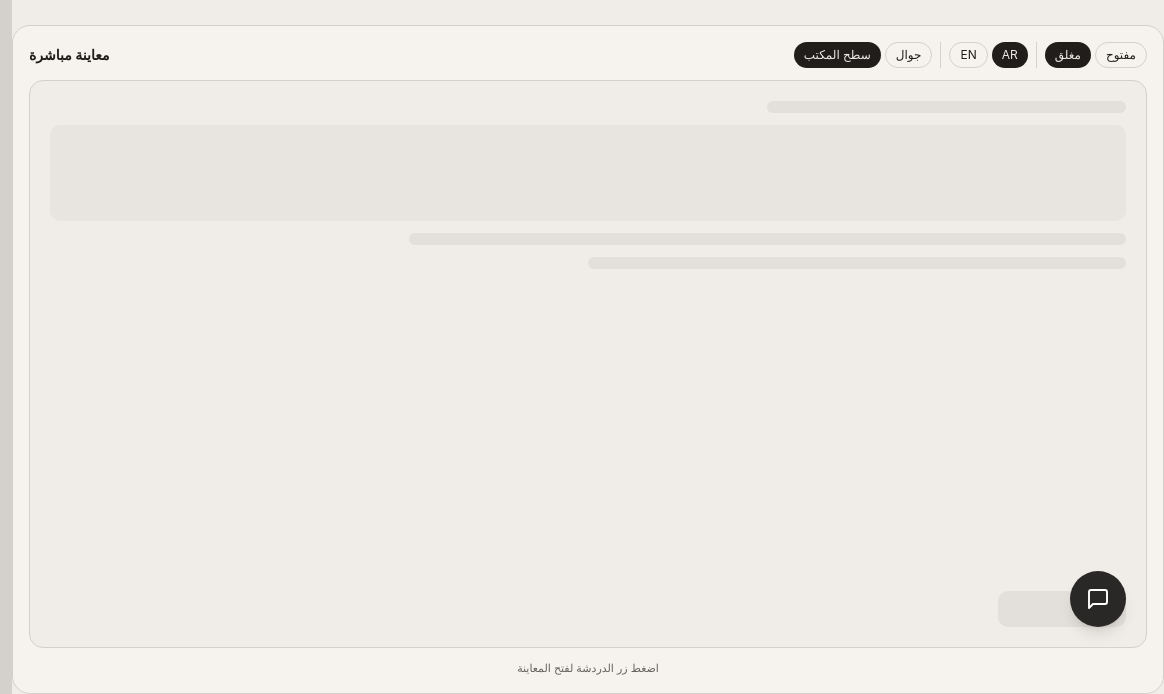
AppearanceEditor › previews the launcher first, then the panel, both in Arabic
The image size is (1164, 694).
(page scrolled)
Check: the text "مرحباً" is not shown
Click the button named "الدعم": (1098, 599) left=1070, top=571, right=1126, bottom=627
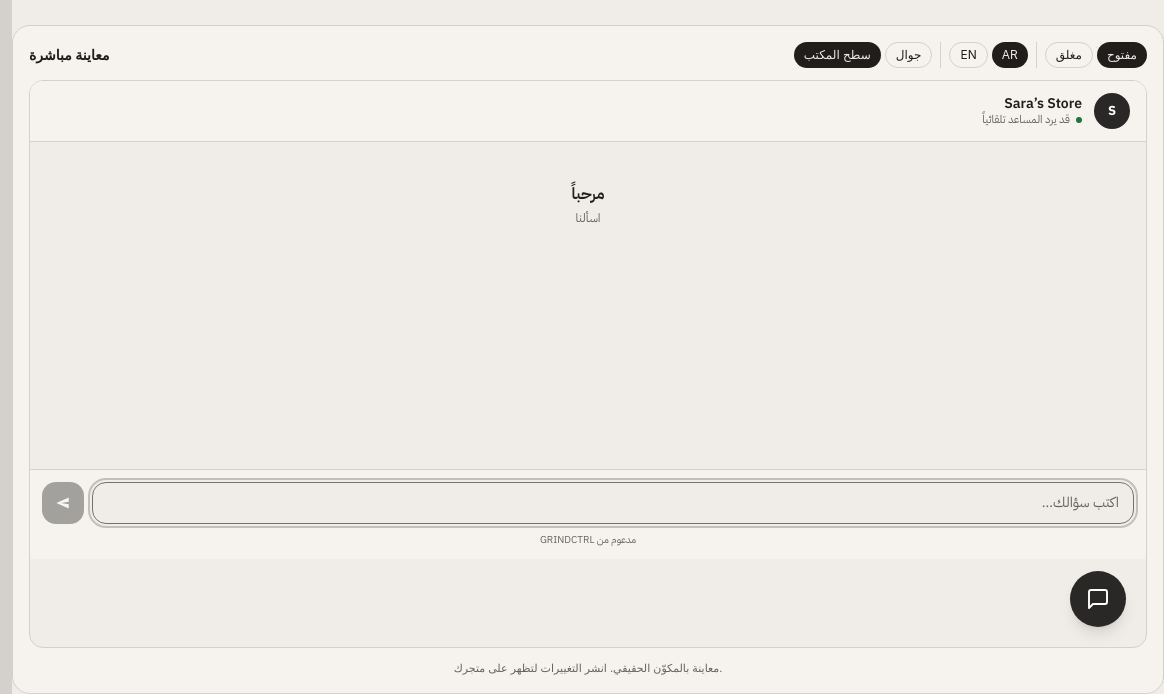
Check: the text "مرحباً" is shown, box left=572, top=182, right=605, bottom=206
